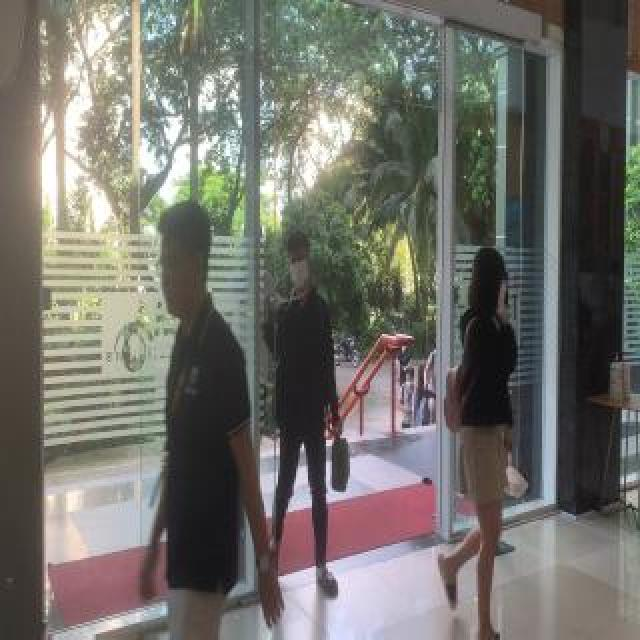gun: (154, 202, 264, 640), (438, 245, 512, 635), (266, 229, 340, 593)
